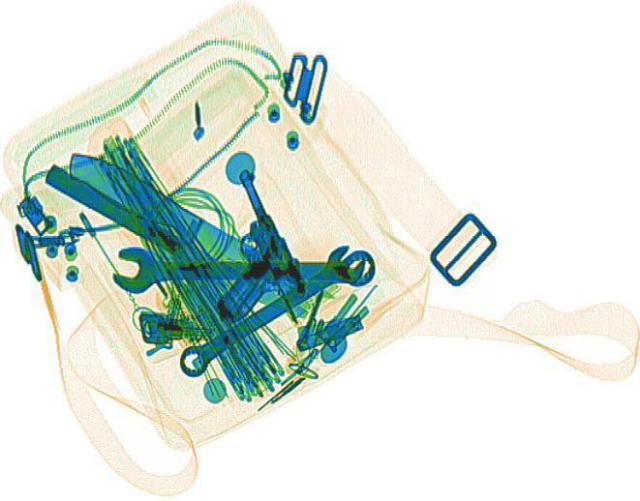Gun: (152, 168, 318, 321)
Knife: (48, 144, 350, 311)
Wrench: (162, 240, 378, 381), (110, 245, 374, 292)
